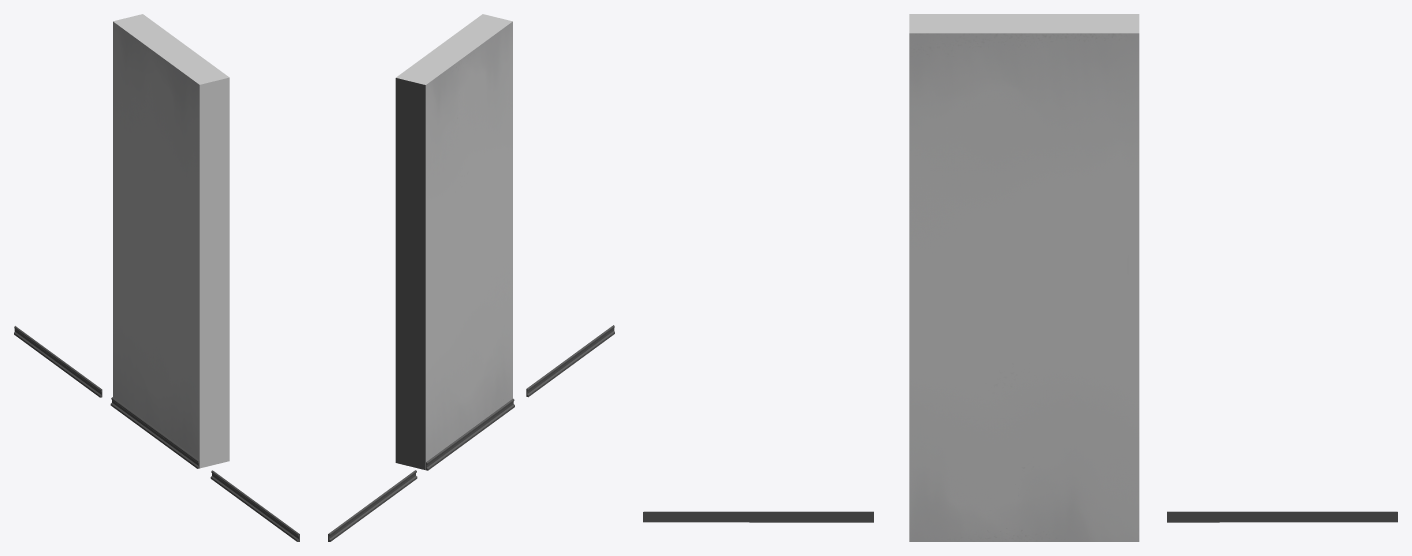
File: Real_Wall_Unchecked_ND.fbx
3 renders of one model, left to right at view 1: azimuth 30°, elevation 25°; view 2: azimuth 150°, elevation 25°; view 3: azimuth 270°, elevation 25°, orthographic. The views are drawn at different scales.
Visible parts, largest first — view 1: Wall, Baseboards1, Baseboards_AngledRight, Baseboards_AngledLeft; view 2: Wall, Baseboards1, Baseboards_AngledRight, Baseboards_AngledLeft; view 3: Wall, Baseboards_AngledLeft, Baseboards_AngledRight.
Boxes of the visible parts, <box> form: Wall: <box>113,14,229,468</box>; Baseboards1: <box>110,397,199,468</box>; Baseboards_AngledRight: <box>210,470,299,541</box>; Baseboards_AngledLeft: <box>14,326,102,397</box>; Wall: <box>395,14,512,470</box>; Baseboards1: <box>426,398,514,470</box>; Baseboards_AngledRight: <box>526,325,614,397</box>; Baseboards_AngledLeft: <box>328,470,417,541</box>; Wall: <box>909,14,1139,541</box>; Baseboards_AngledLeft: <box>1167,511,1397,522</box>; Baseboards_AngledRight: <box>643,511,873,522</box>.
Size of the model in its own units: 21.41 by 244 by 328.
1 material, 1 textured.
